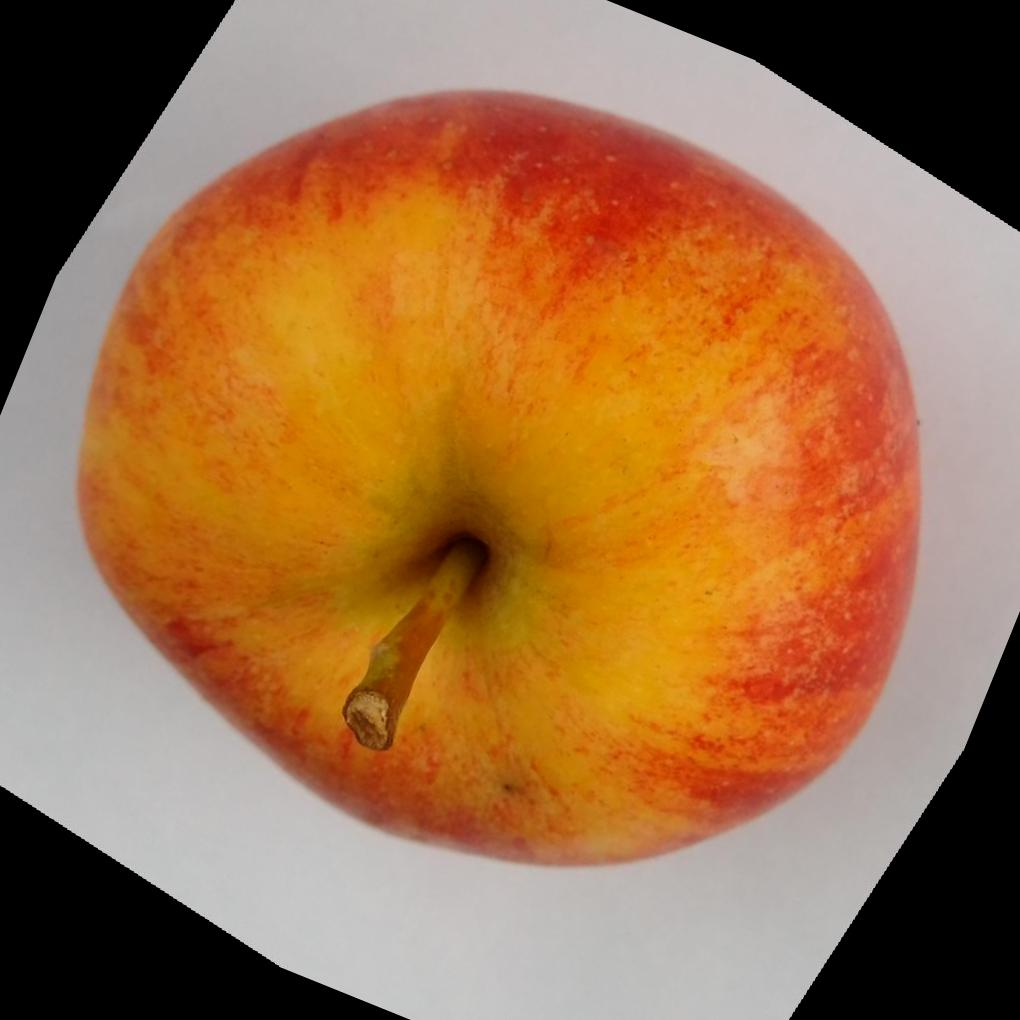FreshGuava: (75, 84, 924, 866)
